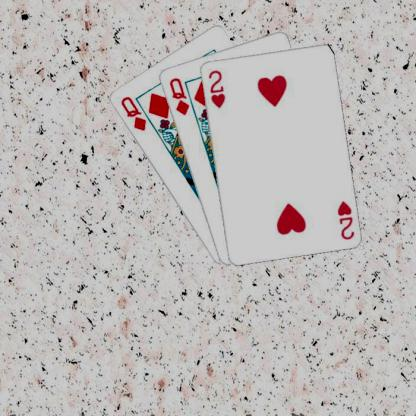2H: (205, 67, 226, 110), (334, 198, 355, 241)
QD: (118, 94, 147, 132), (166, 75, 190, 116)
